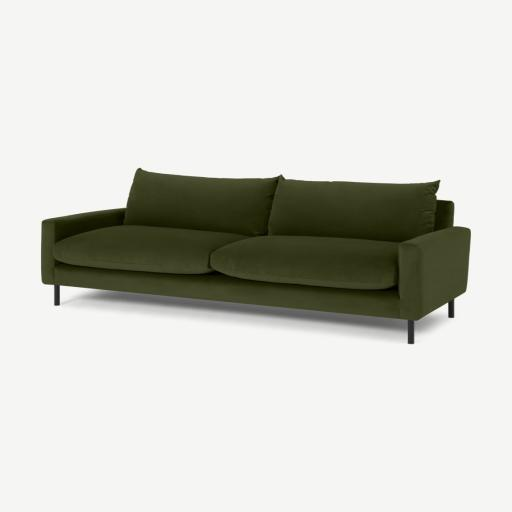back_cushion: (125, 169, 438, 242)
base: (56, 264, 405, 319)
left_arm: (390, 227, 470, 320)
legs: (407, 320, 414, 344), (54, 285, 59, 306), (450, 302, 453, 313)
right_arm: (42, 209, 124, 284)
seat_cushion: (53, 226, 398, 290)
two-seater: (0, 0, 511, 512)
